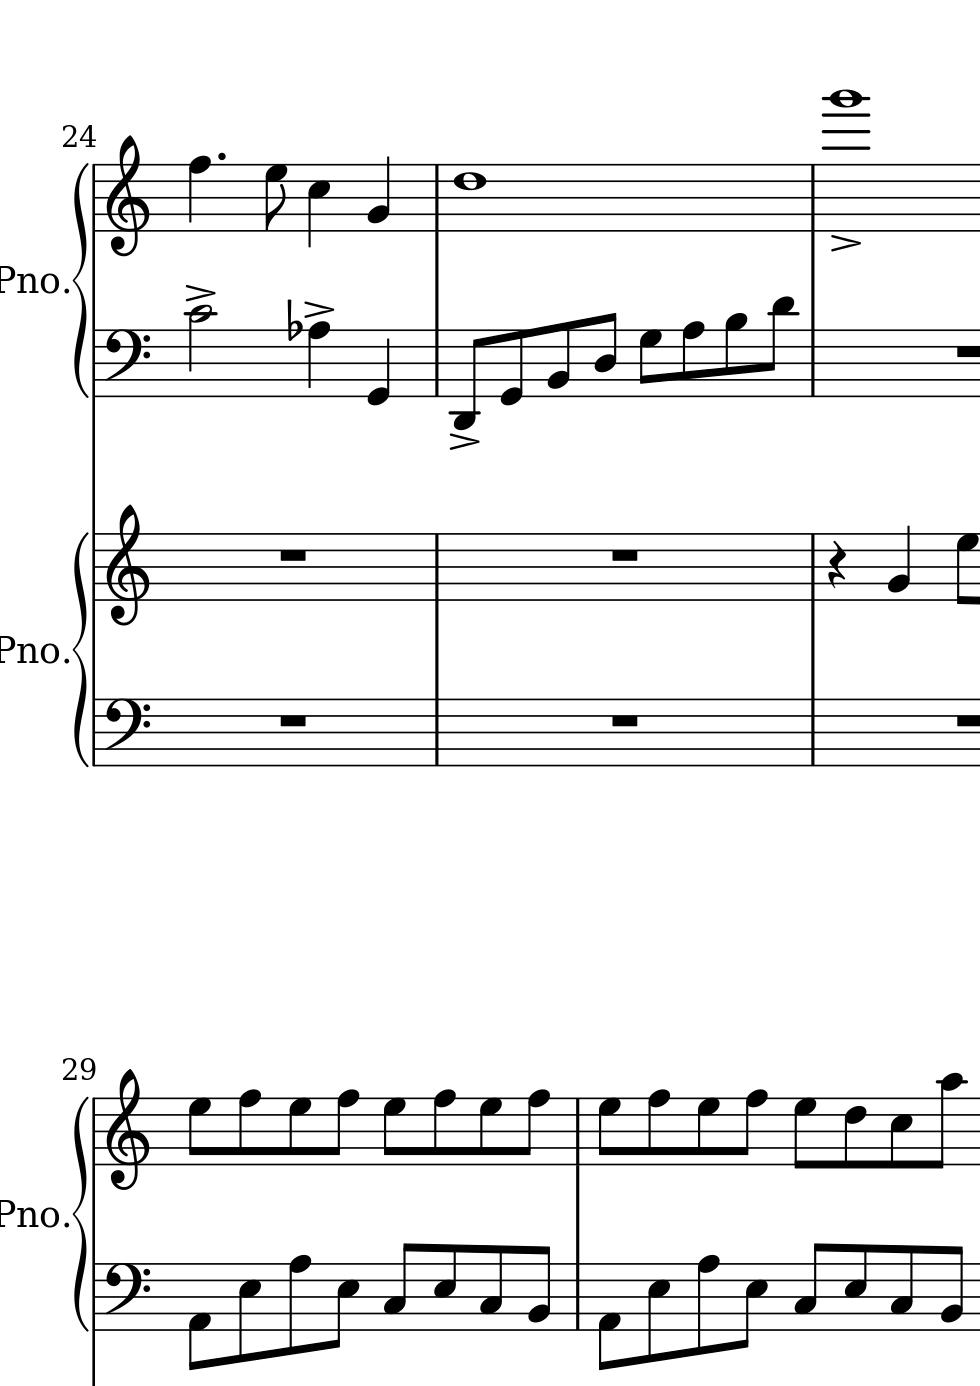1_16: (822, 88, 873, 232)
1_6: (451, 161, 487, 235)
2: (60, 122, 78, 150), (60, 1056, 77, 1082)
2_10: (183, 304, 215, 400)
4: (78, 123, 97, 151)
4_0: (365, 328, 391, 407)
4_2: (886, 523, 912, 603), (366, 154, 391, 233)
4_5: (307, 162, 331, 250)
4_8: (305, 321, 333, 400), (186, 154, 211, 234)
8_-3: (450, 328, 485, 429)
8_0: (498, 327, 525, 407)
8_1: (595, 1261, 622, 1372), (185, 1261, 211, 1371)
8_10: (930, 1072, 965, 1171)
8_11: (762, 295, 795, 400)
8_2: (938, 1244, 964, 1334), (526, 1244, 552, 1333), (544, 320, 571, 399)
8_3: (792, 1241, 826, 1333), (382, 1242, 416, 1333), (888, 1243, 915, 1334), (477, 1244, 504, 1333)
8_4: (592, 311, 618, 400)
8_5: (737, 1261, 769, 1350), (644, 1260, 670, 1364), (329, 1261, 360, 1350), (237, 1260, 262, 1364), (431, 1242, 457, 1333), (841, 1242, 868, 1333), (888, 1096, 913, 1170)
8_6: (842, 1096, 867, 1171)
8_7: (694, 1096, 720, 1166), (792, 1096, 817, 1171), (186, 1095, 211, 1166), (381, 1096, 406, 1166), (596, 1096, 622, 1166), (953, 531, 977, 607), (263, 163, 288, 232), (287, 1096, 312, 1166), (477, 1096, 502, 1166), (637, 328, 661, 399)
8_8: (693, 1253, 719, 1357), (517, 1088, 550, 1166), (733, 1088, 767, 1166), (326, 1087, 358, 1168), (285, 1253, 310, 1356), (644, 1088, 671, 1166), (430, 1088, 456, 1168), (679, 320, 704, 399), (237, 1088, 261, 1168)
8_9: (723, 313, 748, 399)
9: (78, 1055, 97, 1082)
Accent_above: (827, 232, 862, 255), (182, 282, 216, 302), (302, 298, 334, 319), (447, 432, 480, 451)
Brace: (73, 159, 92, 398), (73, 1091, 91, 1334), (74, 529, 92, 769)
Fclef: (102, 328, 152, 401), (101, 1260, 150, 1321), (103, 696, 151, 755)
Flat: (284, 297, 302, 343)
Gclef: (104, 133, 151, 257), (104, 1067, 151, 1191), (103, 502, 148, 626)
Pno: (1, 632, 62, 668), (1, 1197, 59, 1232), (1, 263, 59, 295)
Rests1: (274, 710, 311, 731), (275, 545, 310, 565), (607, 710, 642, 730), (607, 546, 641, 564), (951, 710, 979, 729)
Rests4: (825, 540, 848, 591)
Single_barline: (803, 165, 822, 232), (568, 1098, 587, 1166), (427, 329, 445, 397), (428, 165, 447, 231), (427, 534, 445, 600), (428, 699, 445, 766), (568, 1263, 585, 1330), (804, 534, 821, 600), (804, 700, 821, 766), (805, 330, 820, 397), (88, 329, 102, 397), (88, 164, 102, 231), (88, 534, 102, 601), (88, 1099, 101, 1166), (88, 699, 101, 766), (89, 1263, 102, 1330)
dot: (214, 151, 227, 163)
